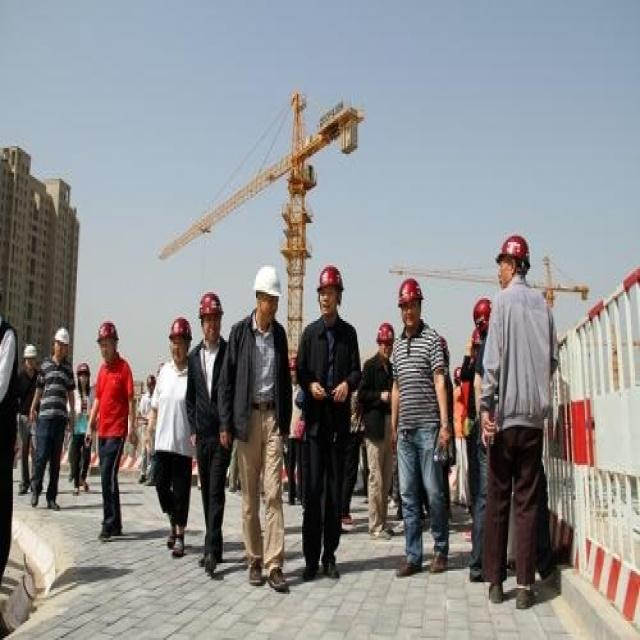helmet: (494, 310, 532, 390), (250, 349, 282, 436), (314, 348, 346, 425), (195, 384, 224, 459), (397, 367, 425, 441), (167, 420, 194, 487), (96, 425, 120, 484), (375, 425, 395, 484), (51, 431, 69, 481), (20, 452, 38, 499), (74, 480, 93, 521)
